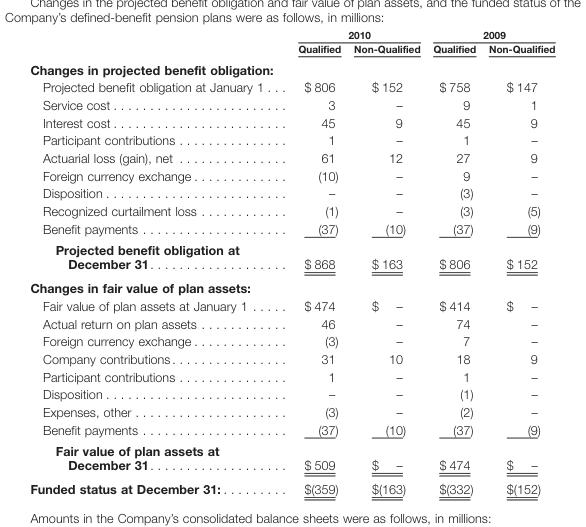table: (29, 28, 554, 495)
table column: (29, 28, 280, 495), (346, 28, 425, 495), (481, 28, 554, 495), (280, 28, 346, 495), (425, 28, 481, 495)
table column header: (29, 28, 554, 57)
table projected row header: (29, 275, 554, 296), (29, 57, 554, 77)
table row: (29, 238, 554, 275), (29, 439, 554, 476), (29, 275, 554, 296), (29, 57, 554, 77), (29, 419, 554, 439), (29, 219, 554, 238), (29, 476, 554, 495), (29, 77, 554, 95), (29, 95, 554, 113), (29, 130, 554, 148), (29, 148, 554, 166), (29, 183, 554, 201), (29, 201, 554, 219), (29, 313, 554, 331), (29, 331, 554, 349), (29, 366, 554, 384), (29, 384, 554, 402), (29, 113, 554, 130), (29, 166, 554, 183), (29, 296, 554, 313), (29, 349, 554, 366), (29, 402, 554, 419), (29, 41, 554, 57), (29, 28, 554, 41)
table spanning cell: (280, 28, 425, 41), (425, 28, 554, 41)
